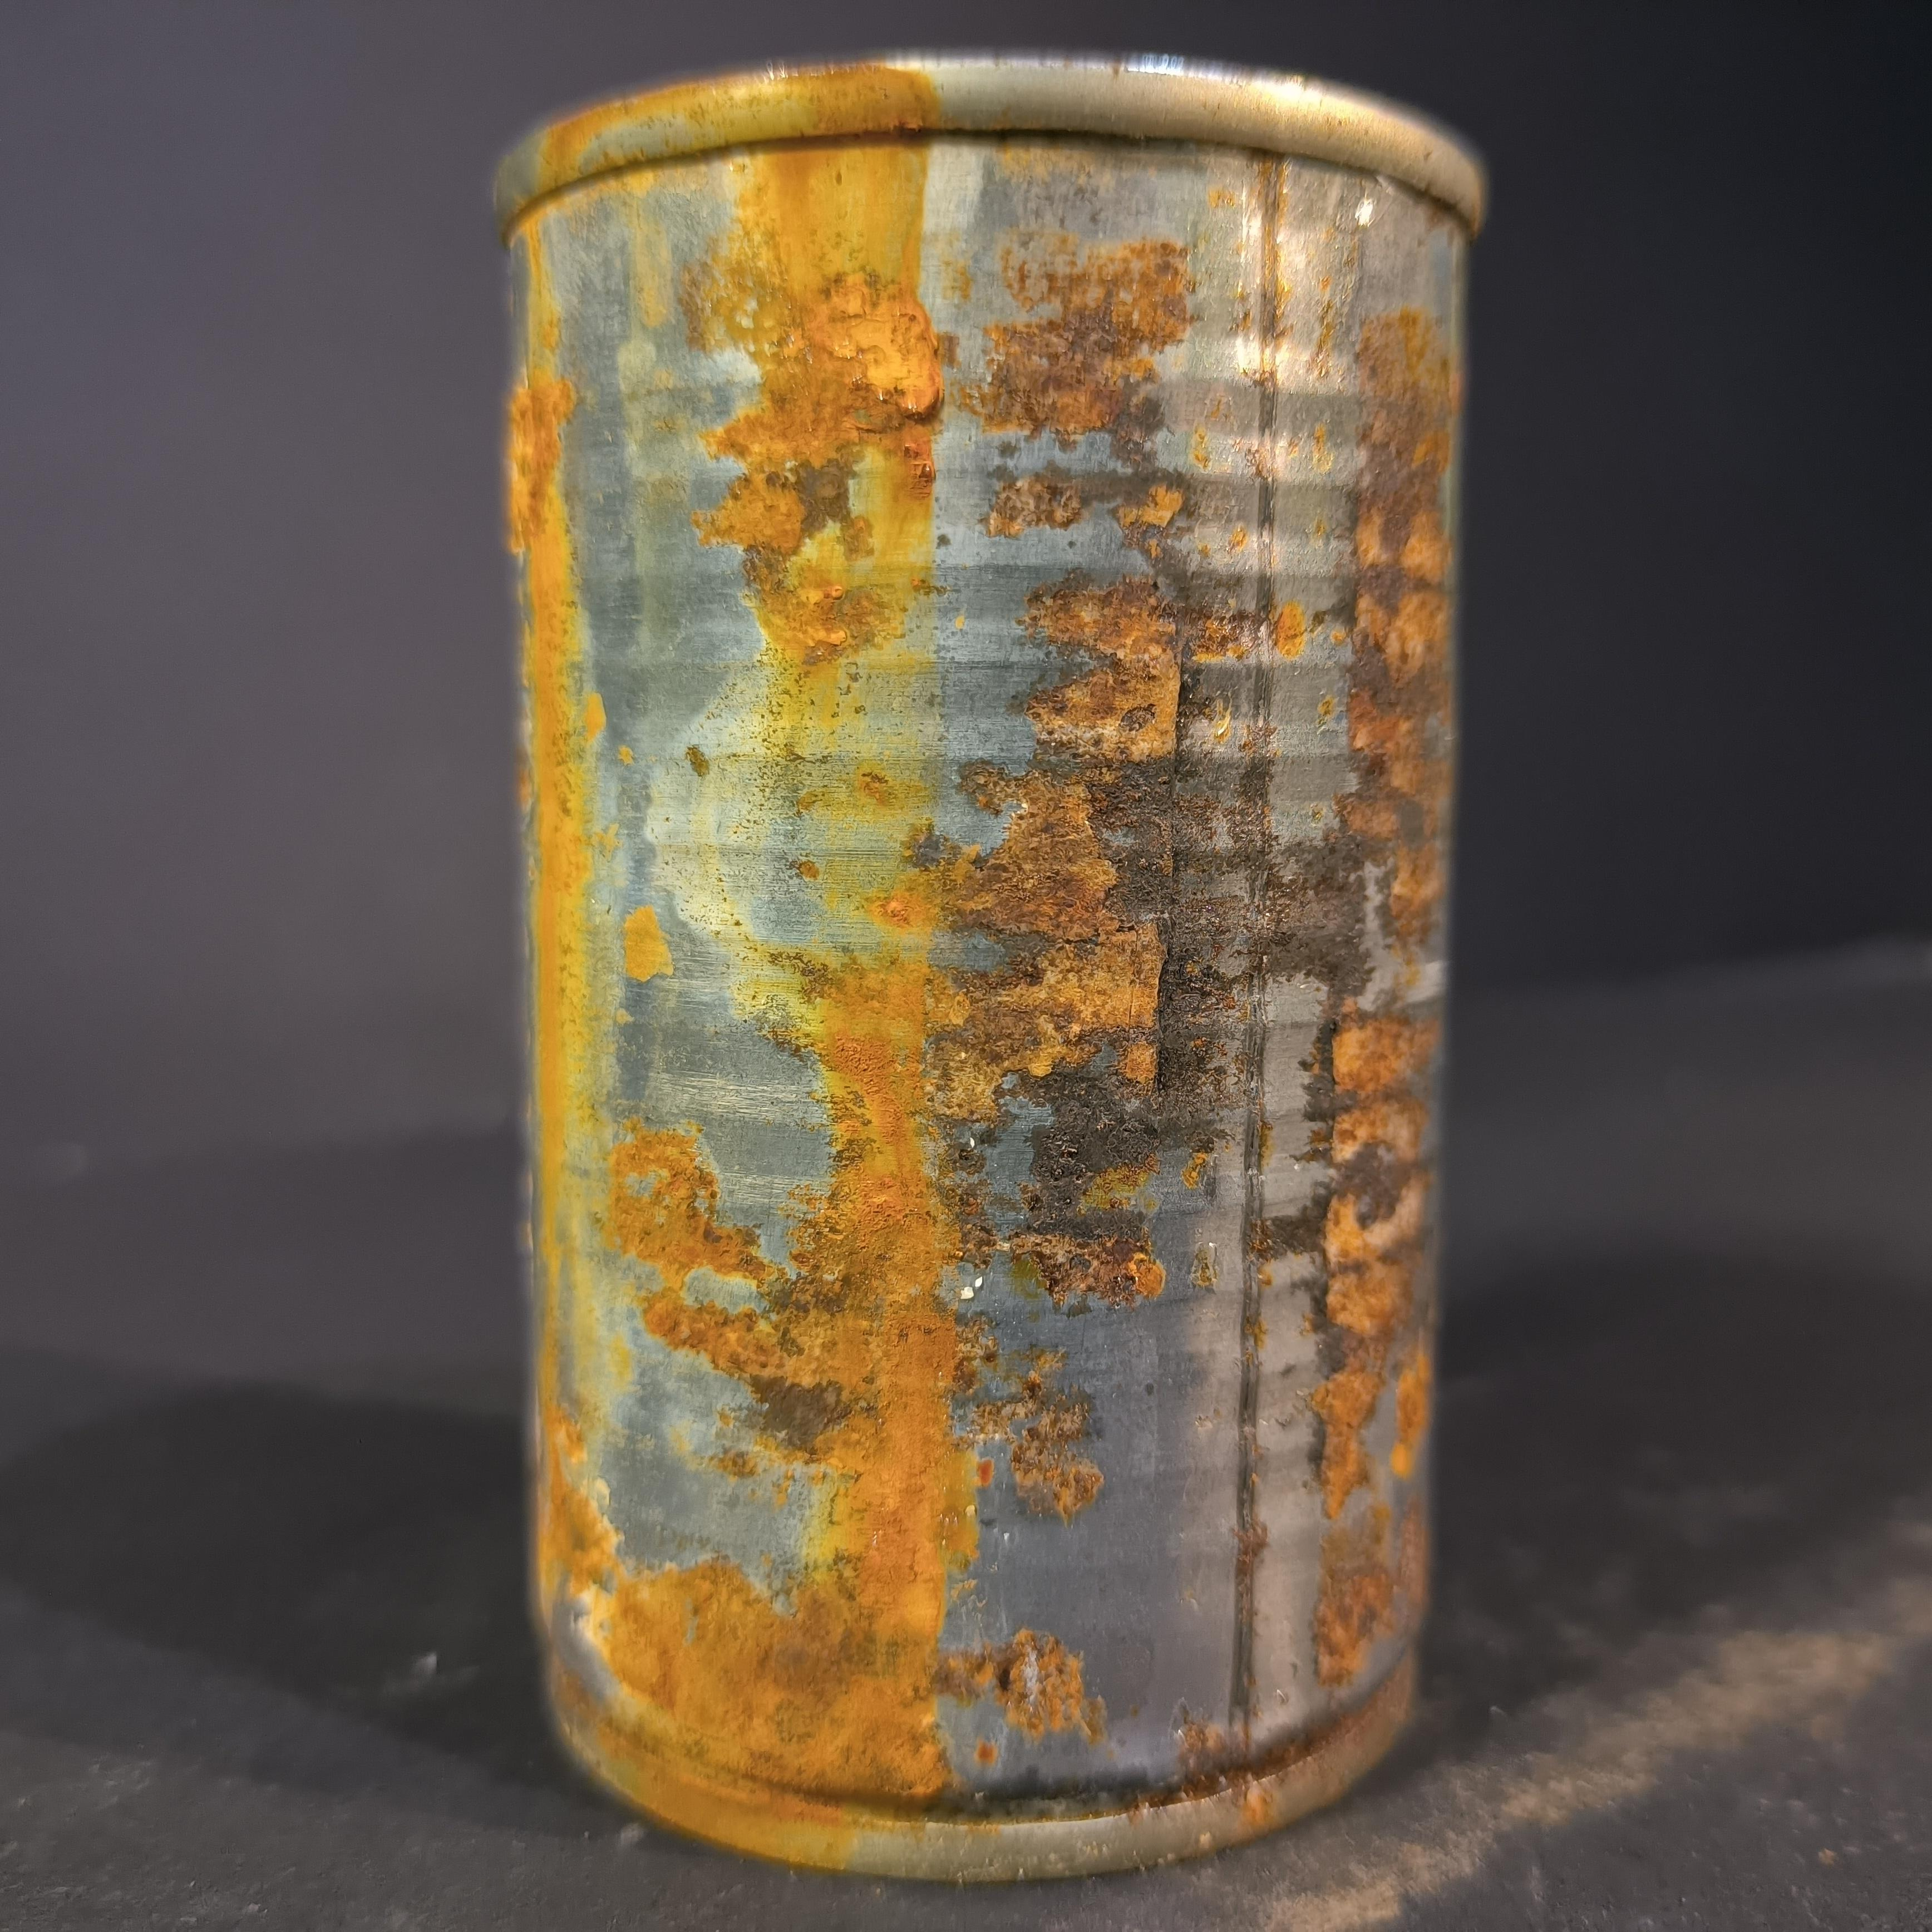Rusted: (465, 19, 1491, 1890)
